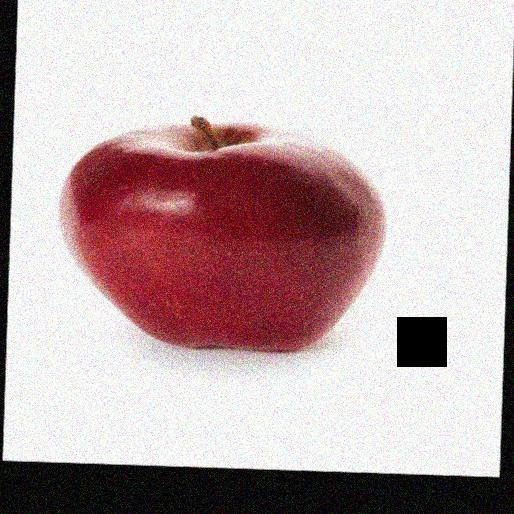red apple: (48, 114, 392, 353)
